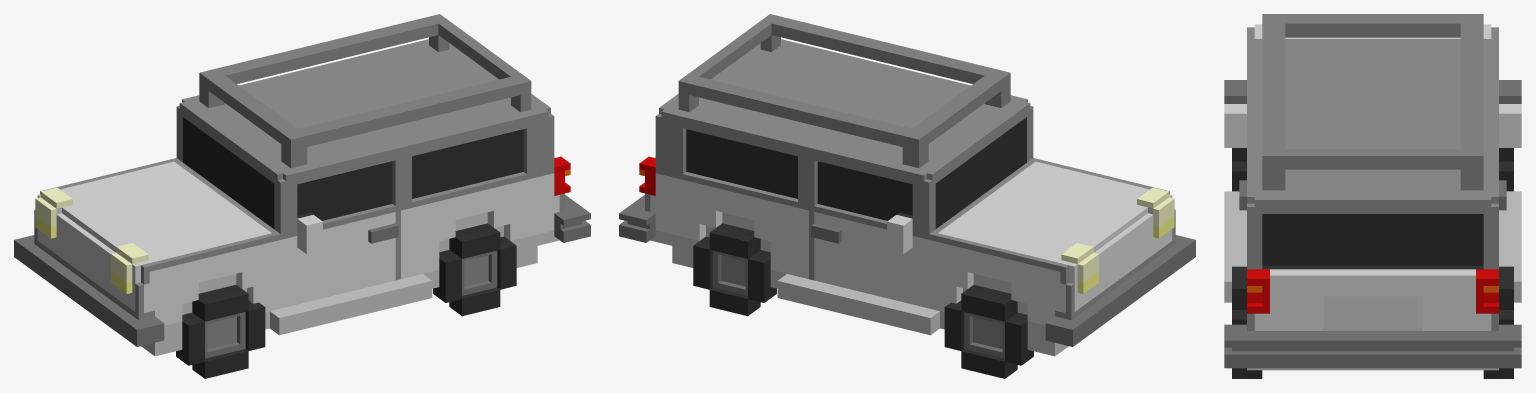
Rendered from car-0.obj.
3 renders of one model, left to right at view 1: azimuth 30°, elevation 25°; view 2: azimuth 150°, elevation 25°; view 3: azimuth 270°, elevation 25°, orthographic. The views are drawn at different scales.
Bounding box in the file's own units: 8.3 × 3.6 × 3.9.
Materials: 1 (1 with a texture image).
